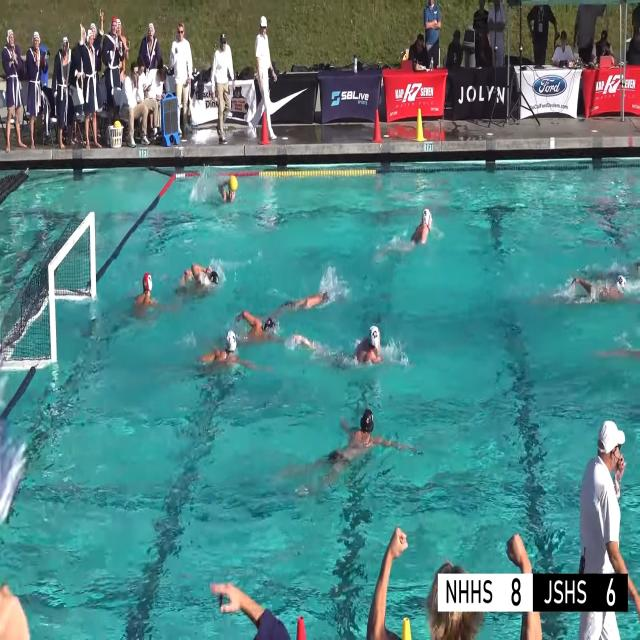ball: (228, 174, 238, 191), (114, 121, 122, 127)
